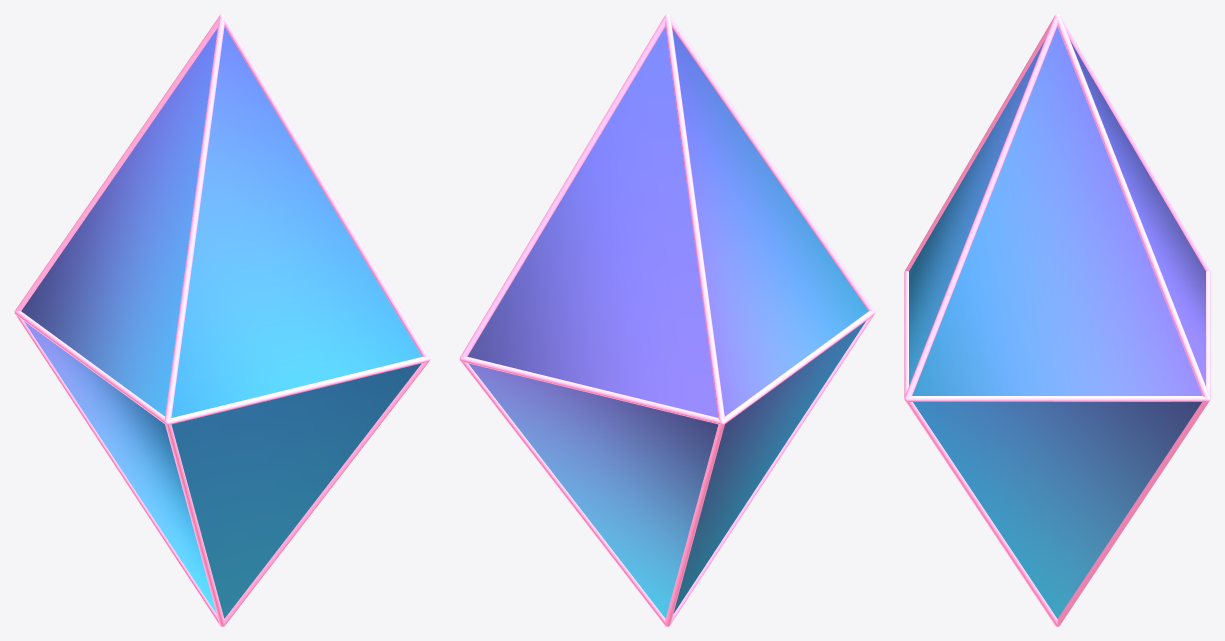
File: ethereum-holo.glb
The picture shows the model from 3 angles, left to right: view 1: azimuth 30°, elevation 25°; view 2: azimuth 150°, elevation 25°; view 3: azimuth 270°, elevation 25°; orthographic projection.
Visible parts, largest first — view 1: crown, pavilion, crown_edges, pavilion_edges; view 2: crown, pavilion, crown_edges, pavilion_edges; view 3: crown, pavilion, crown_edges, pavilion_edges.
Boxes of the visible parts, bbox=[...] form: crown: bbox=[21, 27, 422, 417]; pavilion: bbox=[24, 321, 421, 618]; crown_edges: bbox=[14, 16, 430, 424]; pavilion_edges: bbox=[15, 314, 429, 626]; crown: bbox=[467, 27, 868, 417]; pavilion: bbox=[468, 321, 865, 618]; crown_edges: bbox=[459, 16, 875, 424]; pavilion_edges: bbox=[460, 314, 874, 626]; crown: bbox=[909, 26, 1205, 395]; pavilion: bbox=[913, 402, 1201, 618]; crown_edges: bbox=[904, 16, 1210, 401]; pavilion_edges: bbox=[906, 401, 1208, 625].
Size of the model in its own units: 0.1012 by 0.2232 by 0.1012.
